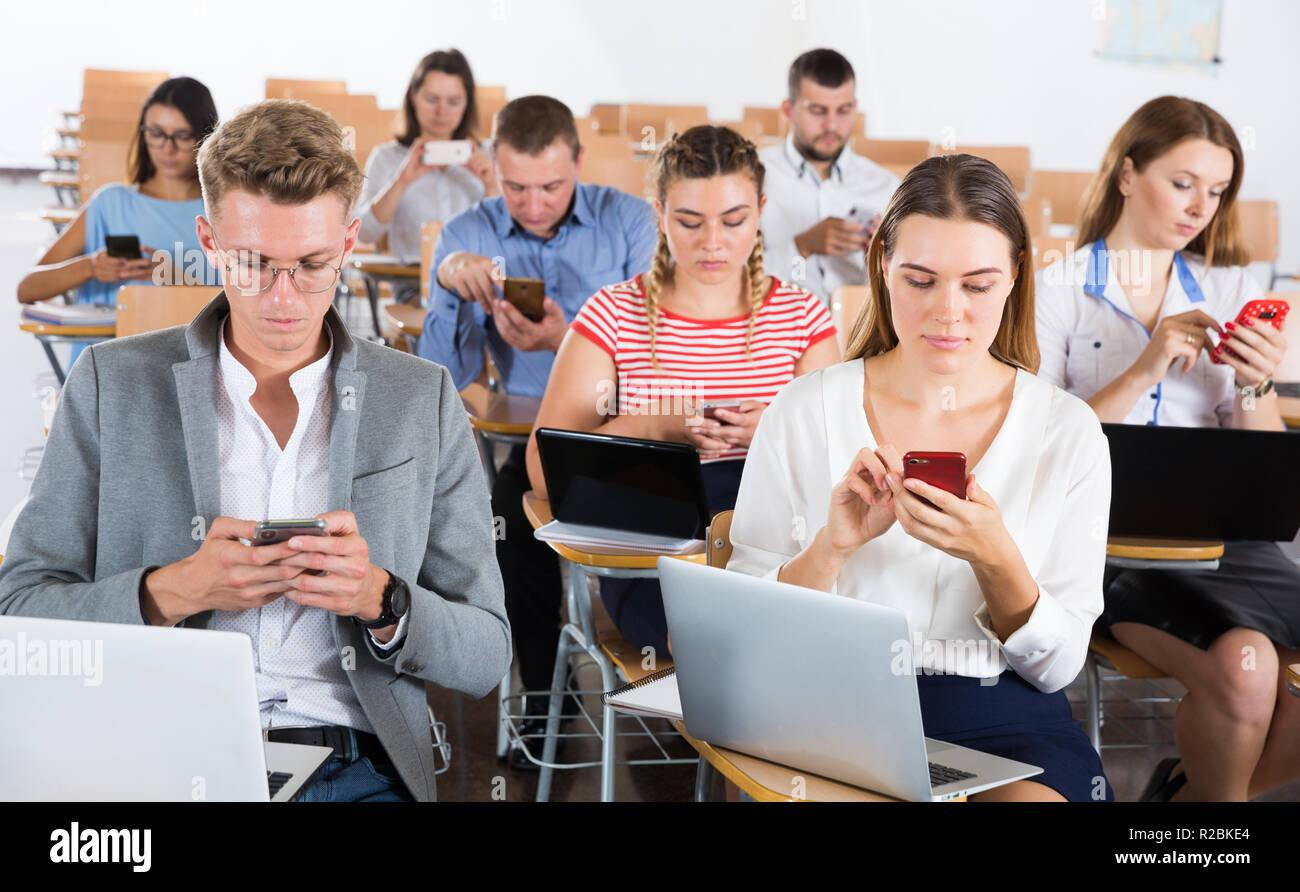phone: (70, 108, 509, 702), (740, 146, 1102, 663), (545, 125, 827, 454), (1041, 88, 1284, 438), (426, 88, 644, 356), (29, 78, 236, 292), (733, 36, 890, 277), (361, 51, 502, 204)
